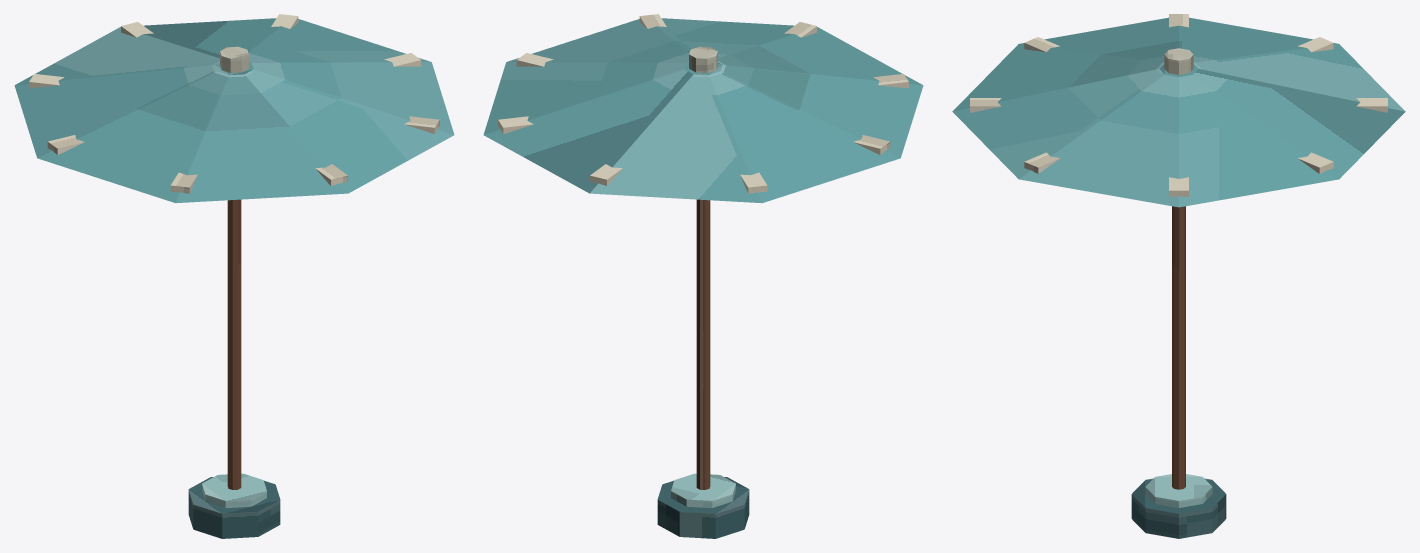
The model's file is beach_umbrella.glb.
3 renders of one model, left to right at view 1: azimuth 30°, elevation 25°; view 2: azimuth 150°, elevation 25°; view 3: azimuth 270°, elevation 25°, orthographic.
Visible parts, largest first — view 1: UmbrellaCanopy, UmbrellaPole, UmbrellaBase, UmbrellaBaseInset, CreamCanopyStripe_1, CreamCanopyStripe_4, CreamCanopyStripe_3, CreamCanopyStripe_2, CanopyCap; view 2: UmbrellaCanopy, UmbrellaPole, UmbrellaBase, UmbrellaBaseInset, CreamCanopyStripe_1, CreamCanopyStripe_2, CreamCanopyStripe_3, CreamCanopyStripe_4, CanopyCap; view 3: UmbrellaCanopy, UmbrellaPole, UmbrellaBase, UmbrellaBaseInset, CreamCanopyStripe_4, CreamCanopyStripe_2, CreamCanopyStripe_3, CanopyCap, CreamCanopyStripe_1.
Boxes of the visible parts, <box> form: UmbrellaCanopy: <box>14,18,454,203</box>; UmbrellaPole: <box>227,199,241,489</box>; UmbrellaBase: <box>188,477,280,538</box>; UmbrellaBaseInset: <box>202,473,266,507</box>; CreamCanopyStripe_1: <box>47,53,421,154</box>; CreamCanopyStripe_4: <box>29,74,439,133</box>; CreamCanopyStripe_3: <box>121,22,347,185</box>; CreamCanopyStripe_2: <box>170,14,298,193</box>; CanopyCap: <box>220,46,248,72</box>; UmbrellaCanopy: <box>483,18,923,203</box>; UmbrellaPole: <box>696,199,710,489</box>; UmbrellaBase: <box>657,477,749,538</box>; UmbrellaBaseInset: <box>671,473,735,507</box>; CreamCanopyStripe_1: <box>516,53,890,154</box>; CreamCanopyStripe_2: <box>498,74,908,133</box>; CreamCanopyStripe_3: <box>590,22,816,185</box>; CreamCanopyStripe_4: <box>639,14,767,193</box>; CanopyCap: <box>689,46,717,72</box>; UmbrellaCanopy: <box>952,17,1405,207</box>; UmbrellaPole: <box>1172,206,1185,489</box>; UmbrellaBase: <box>1131,478,1226,538</box>; UmbrellaBaseInset: <box>1145,474,1212,507</box>; CreamCanopyStripe_4: <box>1024,37,1333,173</box>; CreamCanopyStripe_2: <box>1024,37,1333,173</box>; CreamCanopyStripe_3: <box>970,98,1387,112</box>; CanopyCap: <box>1164,48,1193,74</box>; CreamCanopyStripe_1: <box>1169,14,1188,196</box>.
Size of the model in its own units: 2.3 by 2.6 by 2.3.
Materials: 1 (1 with a texture image).
